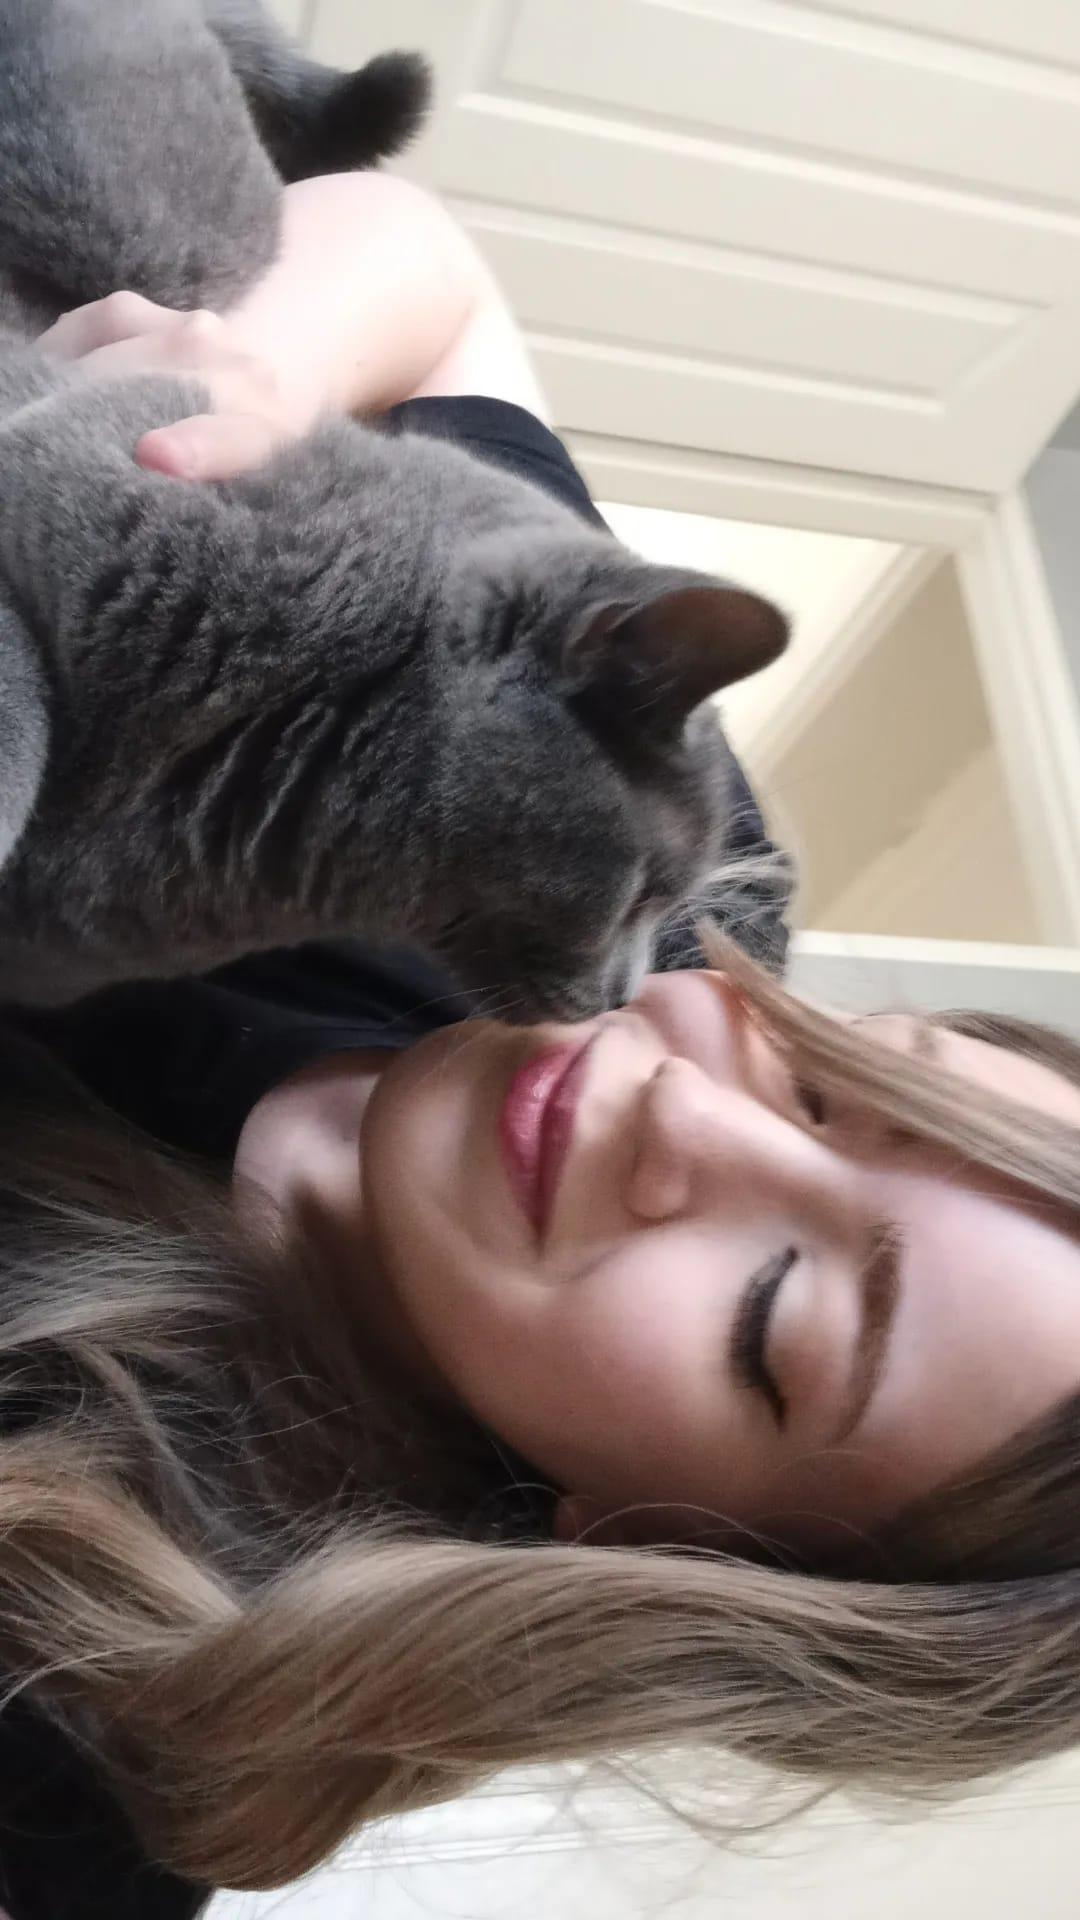kedo: (0, 0, 796, 1026)
